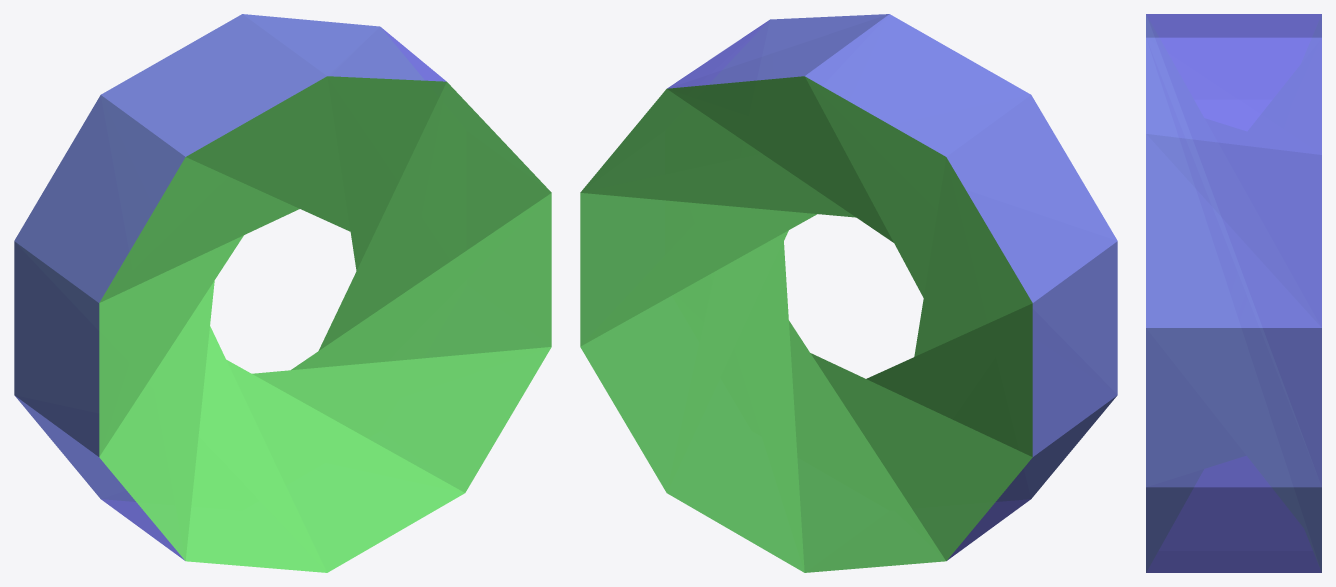
File: DecagonalIrisToroid3.obj
3 renders of one model, left to right at view 1: azimuth 30°, elevation 25°; view 2: azimuth 150°, elevation 25°; view 3: azimuth 270°, elevation 25°, orthographic. The views are drawn at different scales.
Size of the model in its own units: 2.46 by 2.58 by 0.8.
